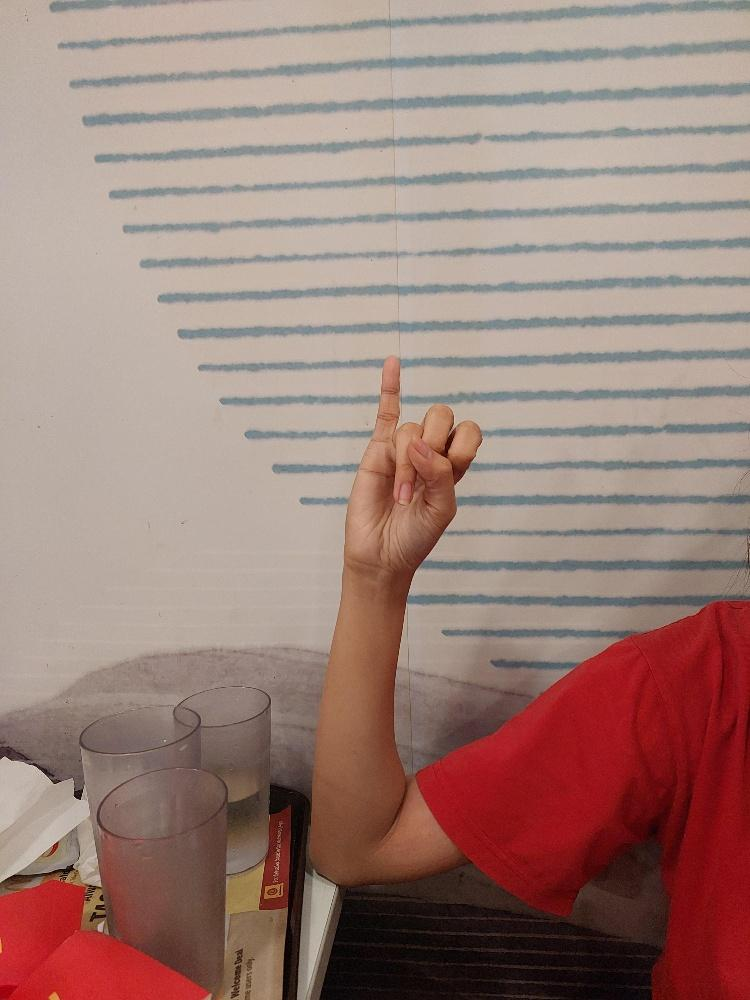i: (342, 351, 483, 574)
